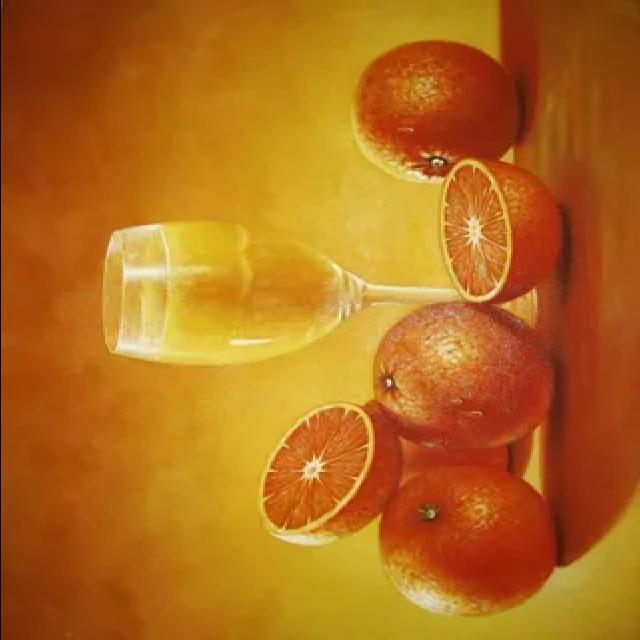orange: (368, 293, 558, 454), (372, 468, 562, 616), (346, 38, 524, 180)
